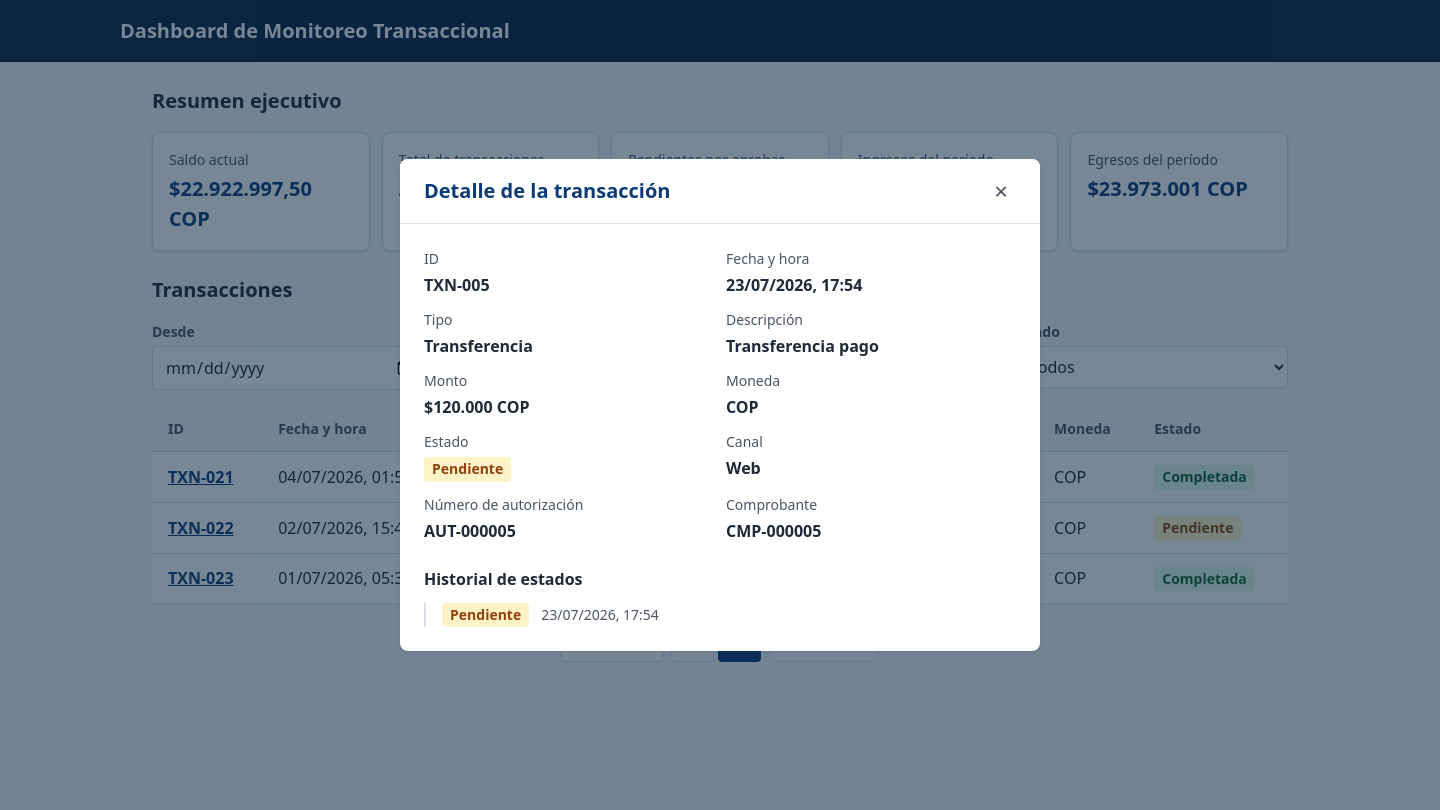
Test: rutas de la aplicación › al cerrar un detalle abierto por URL vuelve al dashboard conservando la página
expect the text "Transferencia pago" is shown: met, box x1=726 y1=335 x2=879 y2=357
Click the button named "Cerrar" at (1001, 191), box x1=986 y1=175 x2=1016 y2=207
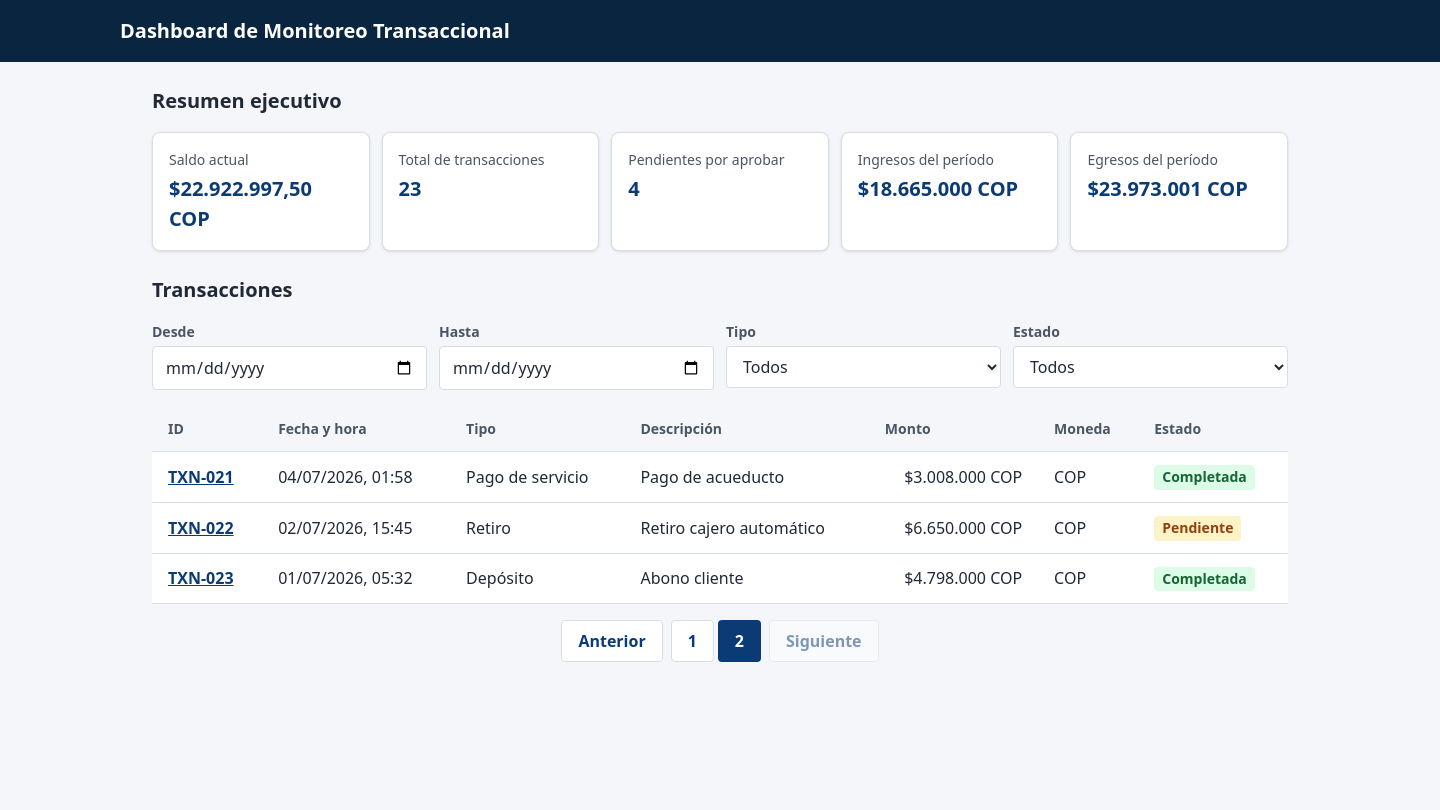
expect the dialog is gone: met
